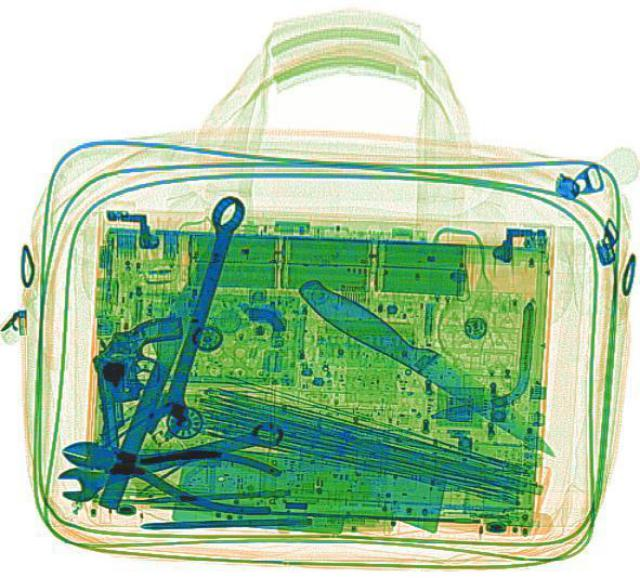Gun: (86, 312, 196, 467)
Knife: (290, 273, 570, 461), (88, 225, 228, 507)
Pliers: (52, 421, 284, 518)
Wrench: (140, 190, 250, 436), (52, 411, 288, 502)
